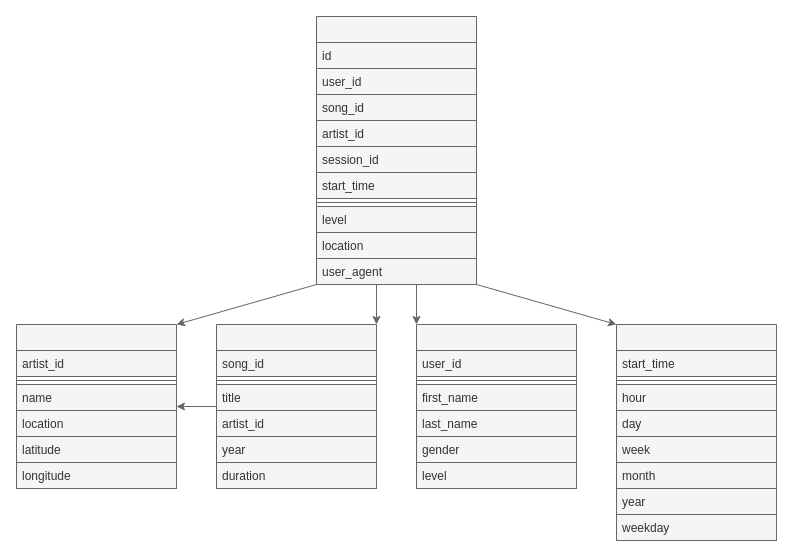
Image size: 793x557. Some labels were removed from this diagram. Here are the shapes that lost their labels. From the top down, the box of each, then its label:
(316, 16, 476, 284): fact_song_plays
(16, 324, 176, 488): dim_artist
(216, 324, 376, 488): dim_song
(416, 324, 576, 488): dim_user
(616, 324, 776, 540): dim_time
